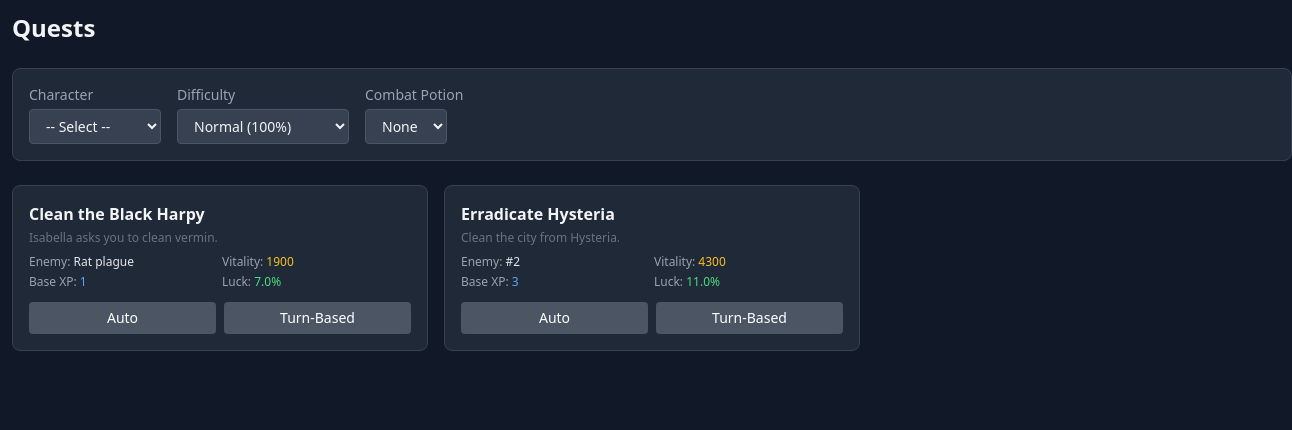
Test case: QuestsPage › shows error on locked character
The width and height of the screenshot is (1292, 430).
Check: the heading "Clean the Black Harpy" is shown, box [29,203,205,225]
Select "Ragnar (Lv.0)" in the dropdown below "Character": (95,126) [29,109,161,144]
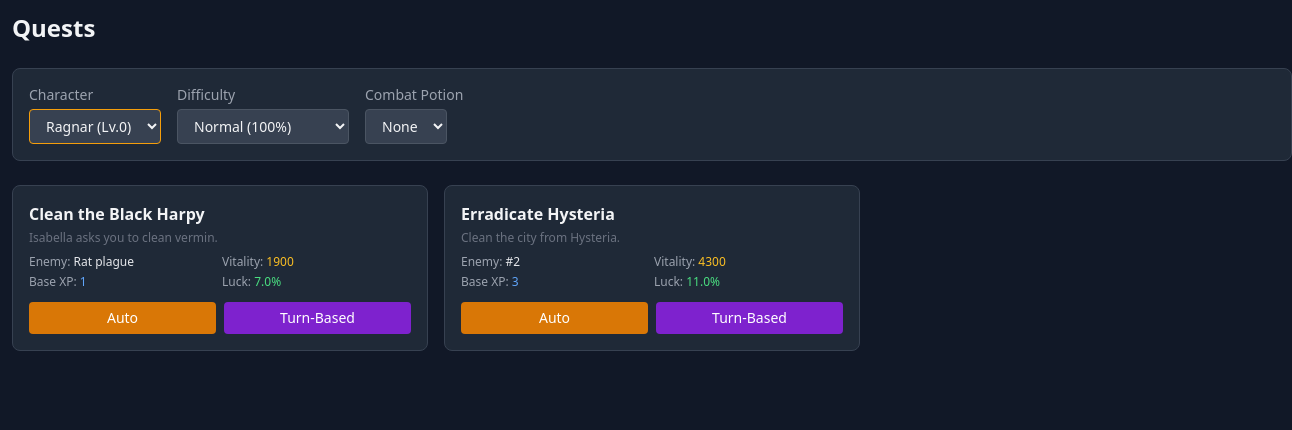
Click the button "Auto" below "7.0": (122,318) [29,302,216,334]
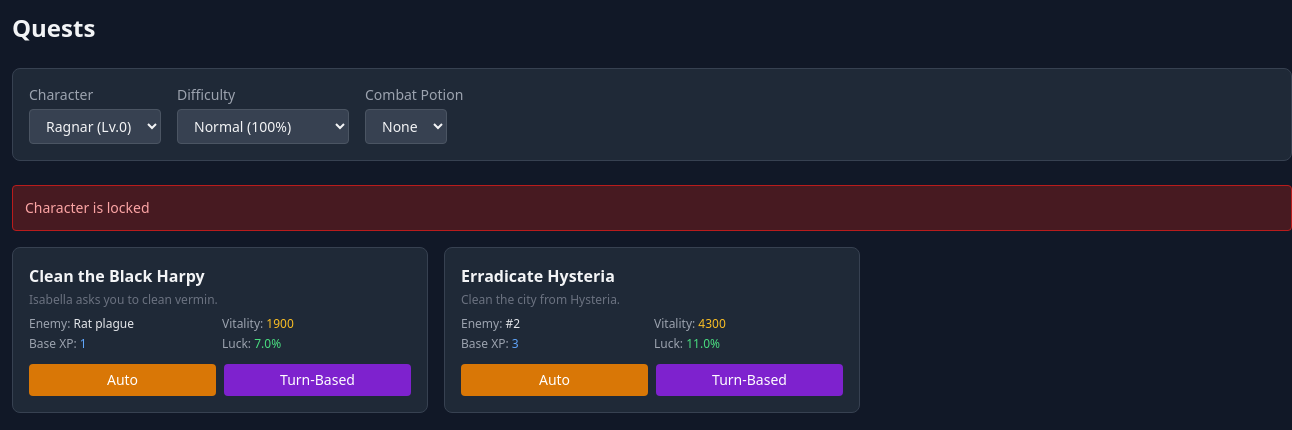
Check: the text "Character is locked" is shown, box [12,185,1291,231]
